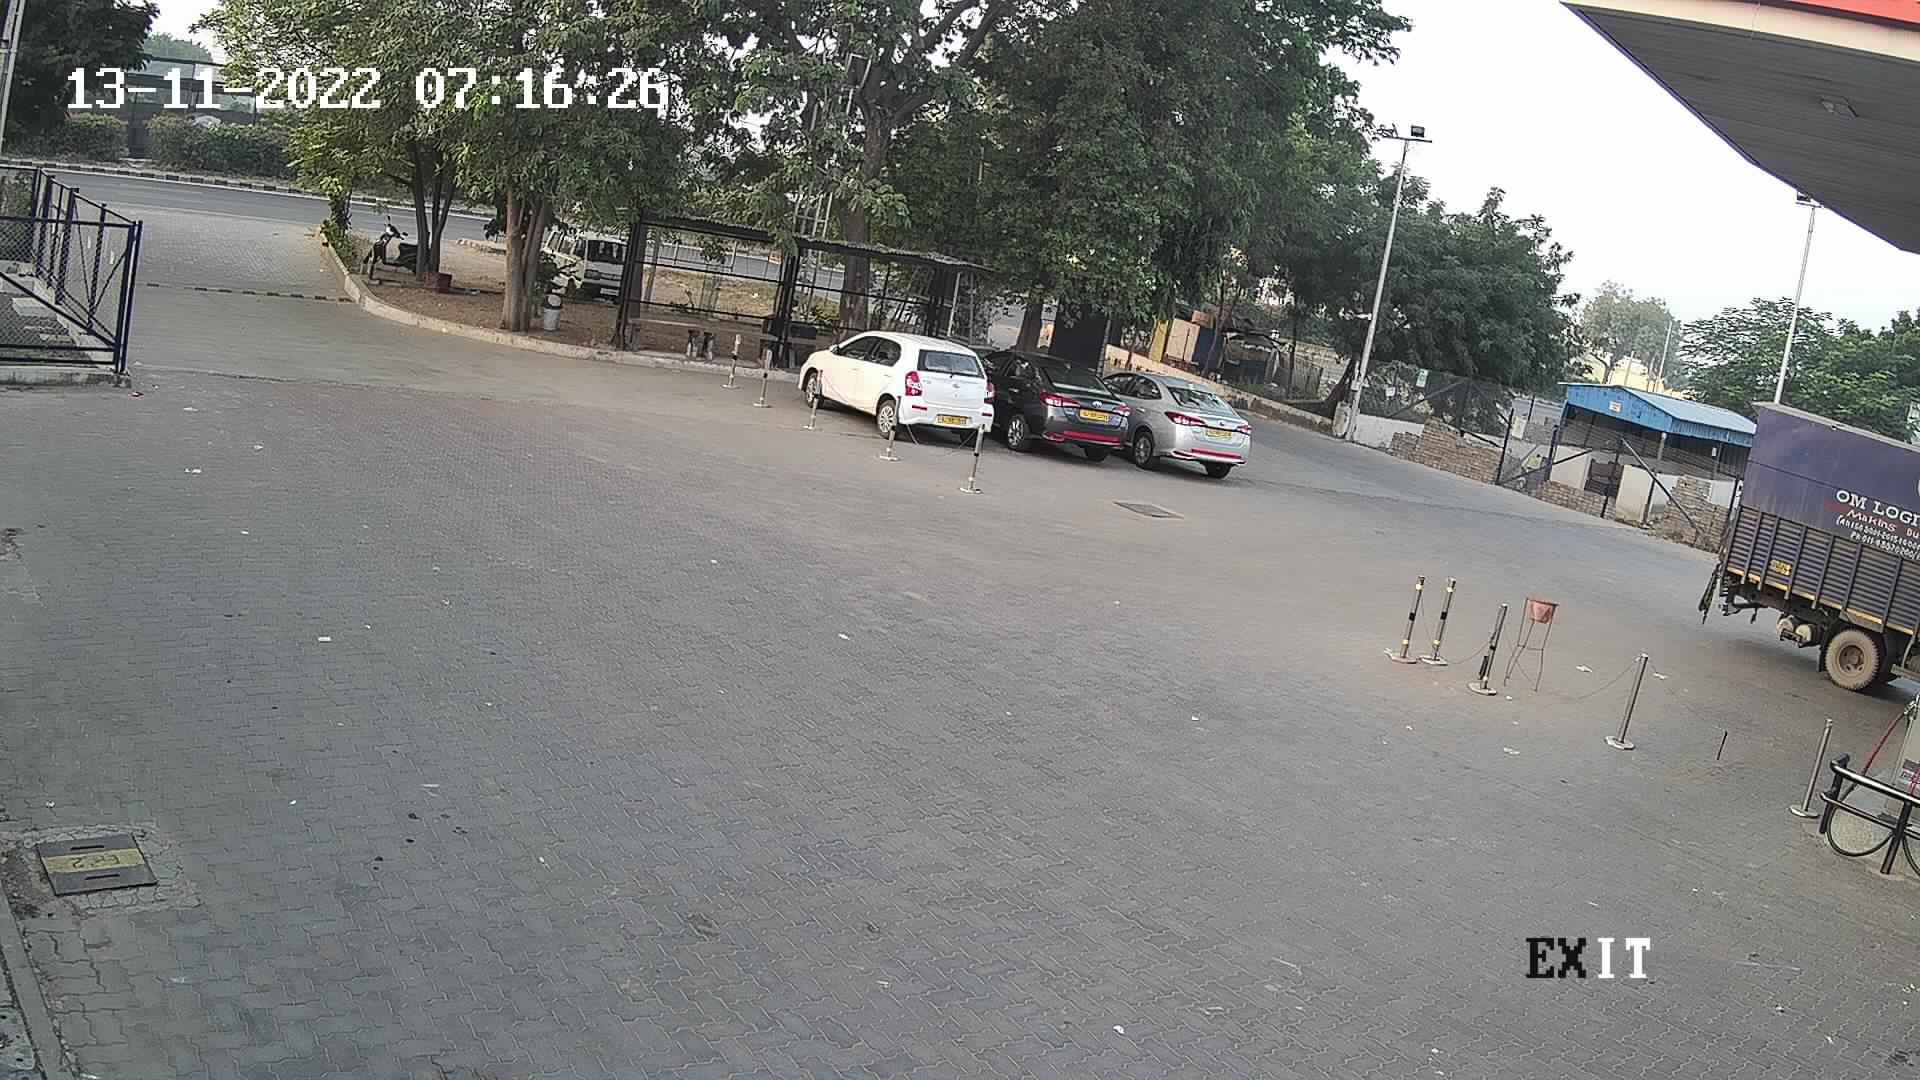Bike: (357, 203, 427, 290)
Car: (789, 320, 1007, 452), (1091, 356, 1257, 491), (968, 335, 1134, 464), (529, 212, 640, 306)
HMV: (1697, 390, 1919, 717)
